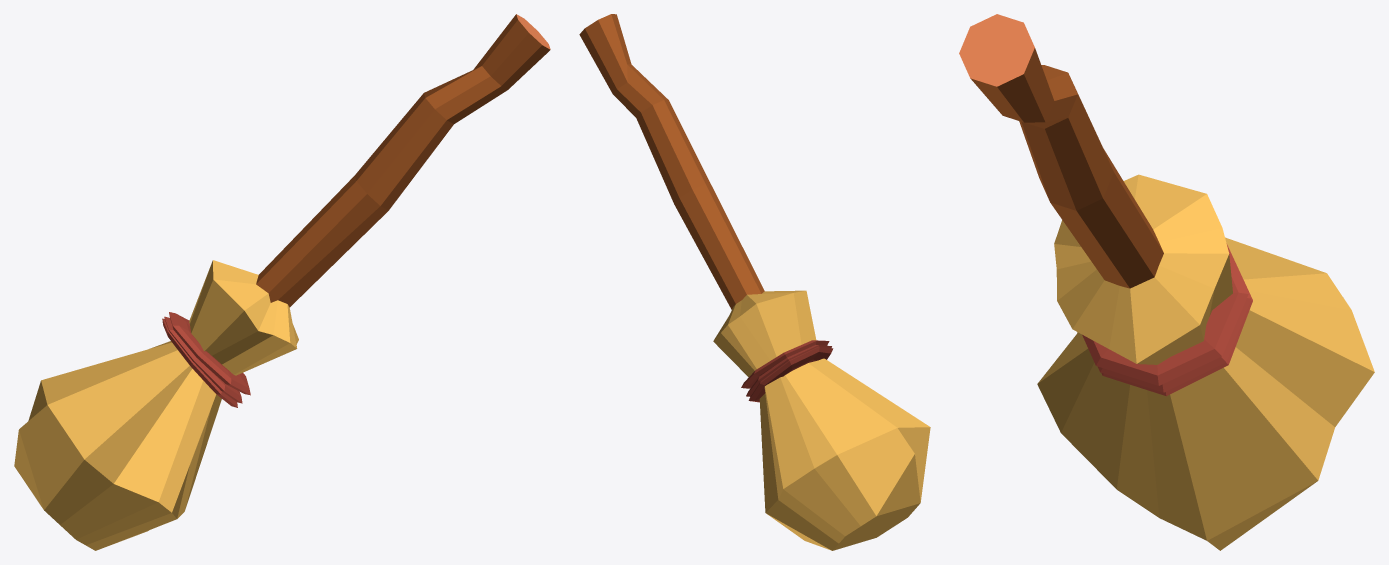
Rendered from broomstick.fbx.
3 views of the same model, side by side, from view 1: azimuth 30°, elevation 25°; view 2: azimuth 150°, elevation 25°; view 3: azimuth 270°, elevation 25° (orthographic). The views are drawn at different scales.
Visible parts, largest first — view 1: pTorus4; view 2: pTorus4; view 3: pTorus4.
Part boxes in pixels (<box>): pTorus4: <box>14,14,550,550</box>; pTorus4: <box>579,14,930,550</box>; pTorus4: <box>959,14,1374,550</box>.
Bounding box in the file's own units: 94.59 × 96.92 × 47.87.
